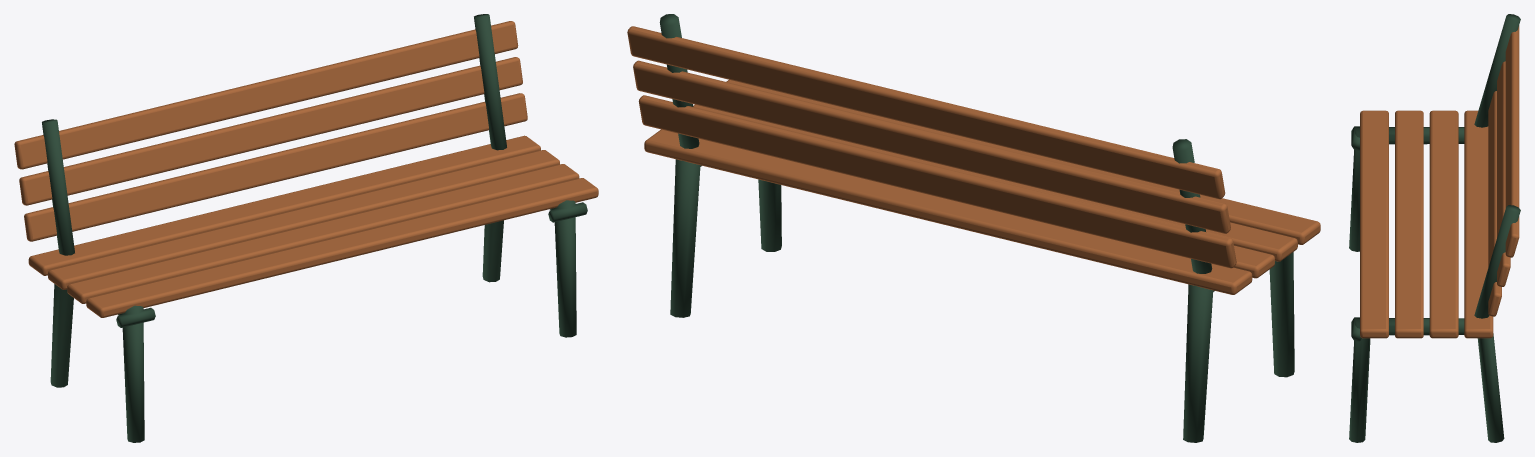
File: park_bench.fbx
The picture shows the model from 3 angles, left to right: view 1: azimuth 30°, elevation 25°; view 2: azimuth 150°, elevation 25°; view 3: azimuth 270°, elevation 25°; orthographic projection. The views are drawn at different scales.
Visible parts, largest first — view 1: park_bench; view 2: park_bench; view 3: park_bench.
Boxes of the visible parts, box(x1,y1,x2,y2) form: park_bench: box(14, 14, 598, 442); park_bench: box(627, 14, 1320, 442); park_bench: box(1349, 14, 1520, 442).
Size of the model in its own units: 1.8 by 0.8893 by 0.5931.
